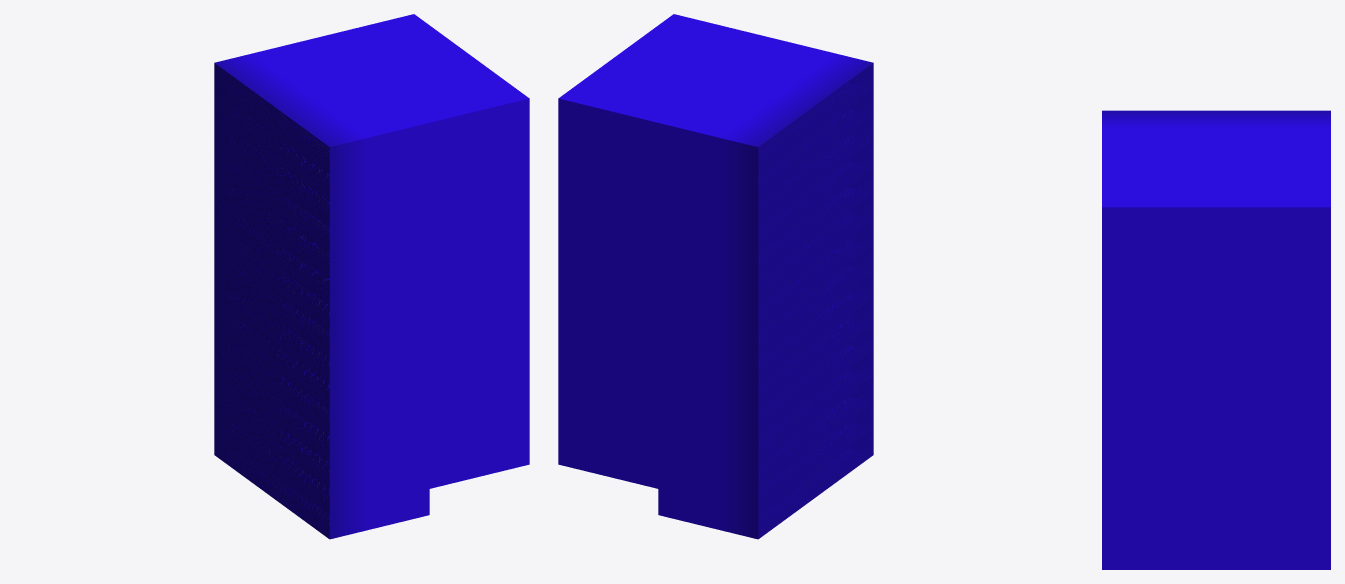
File: tier1_piece_21.obj
3 renders of one model, left to right at view 1: azimuth 30°, elevation 25°; view 2: azimuth 150°, elevation 25°; view 3: azimuth 270°, elevation 25°, orthographic.
Visible parts, largest first — view 1: tier1_piece_21; view 2: tier1_piece_21; view 3: tier1_piece_21.
Part boxes in pixels (x1=…): tier1_piece_21: x1=214, y1=14, x2=529, y2=539; tier1_piece_21: x1=558, y1=14, x2=873, y2=539; tier1_piece_21: x1=1102, y1=110, x2=1330, y2=569.
Size of the model in its own units: 1 by 0.9375 by 0.5.
